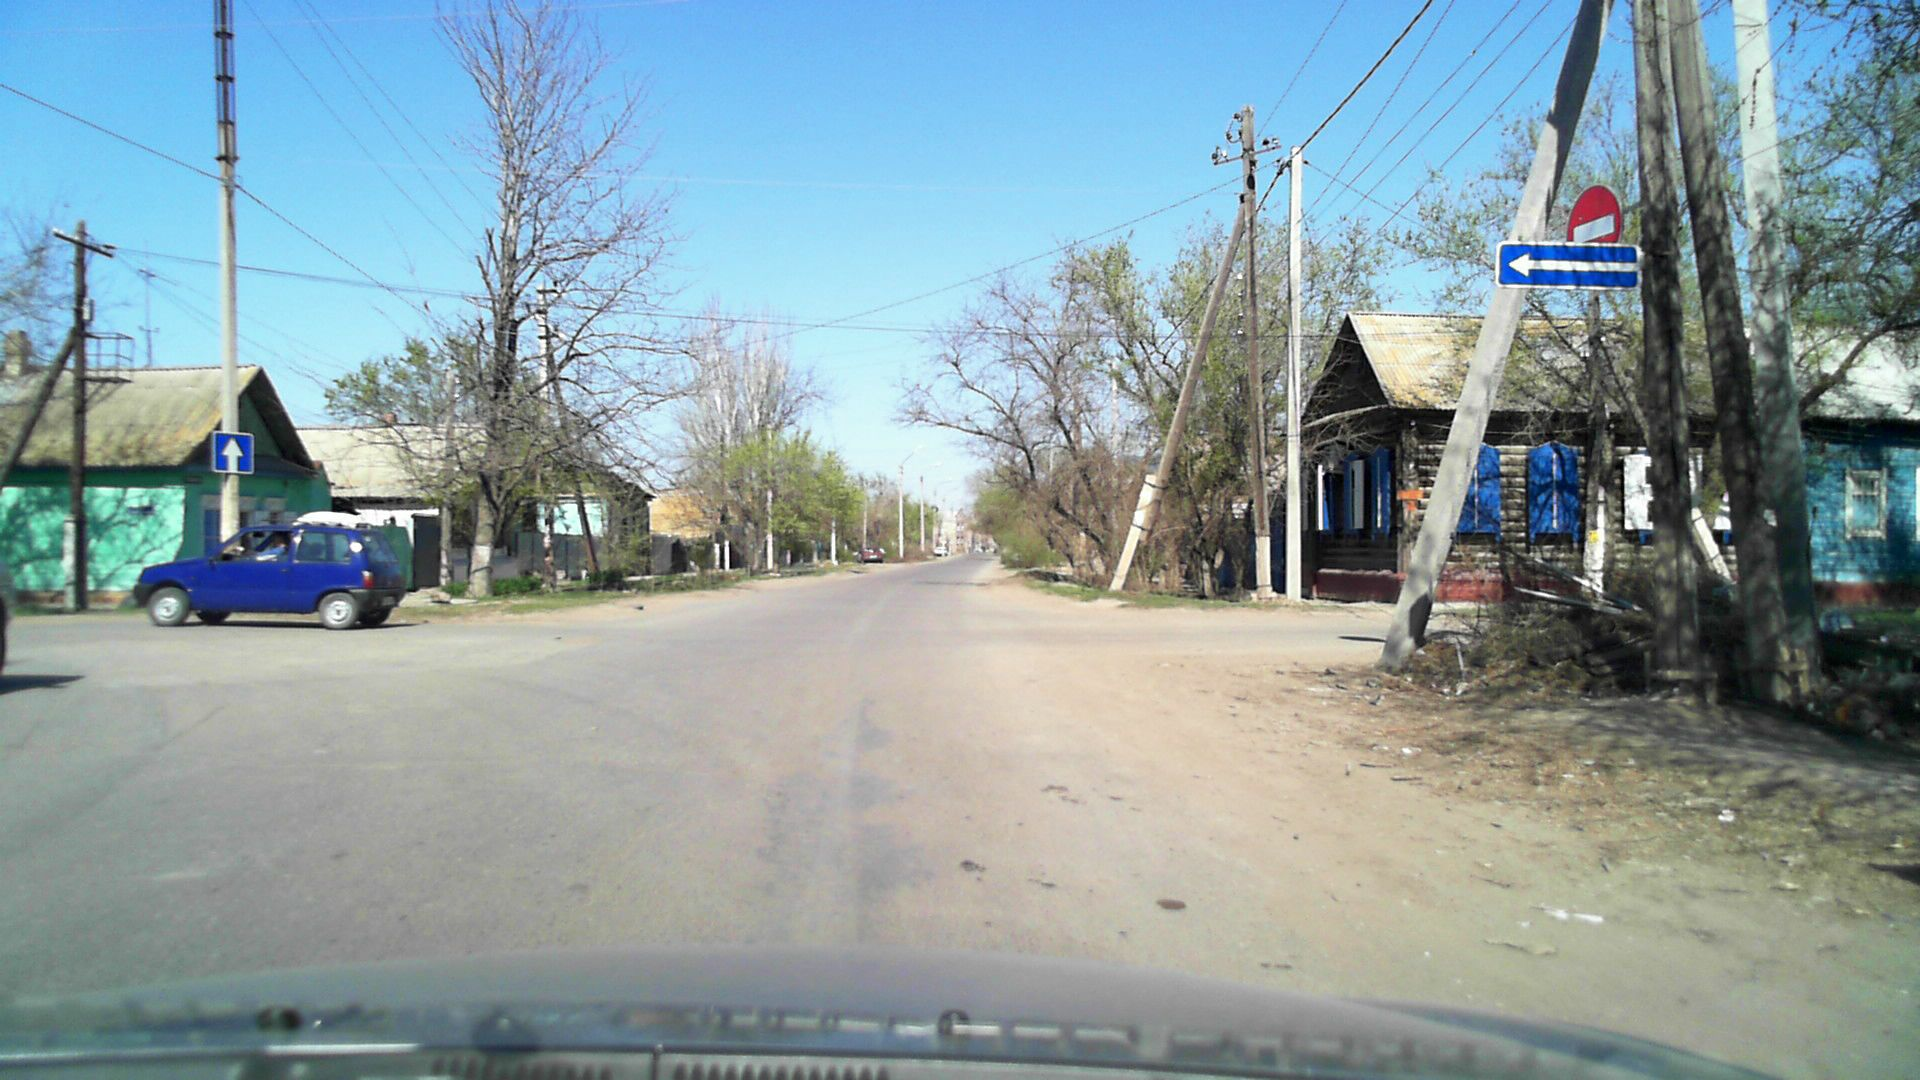One-Way Traffic: (1495, 241, 1640, 289)
